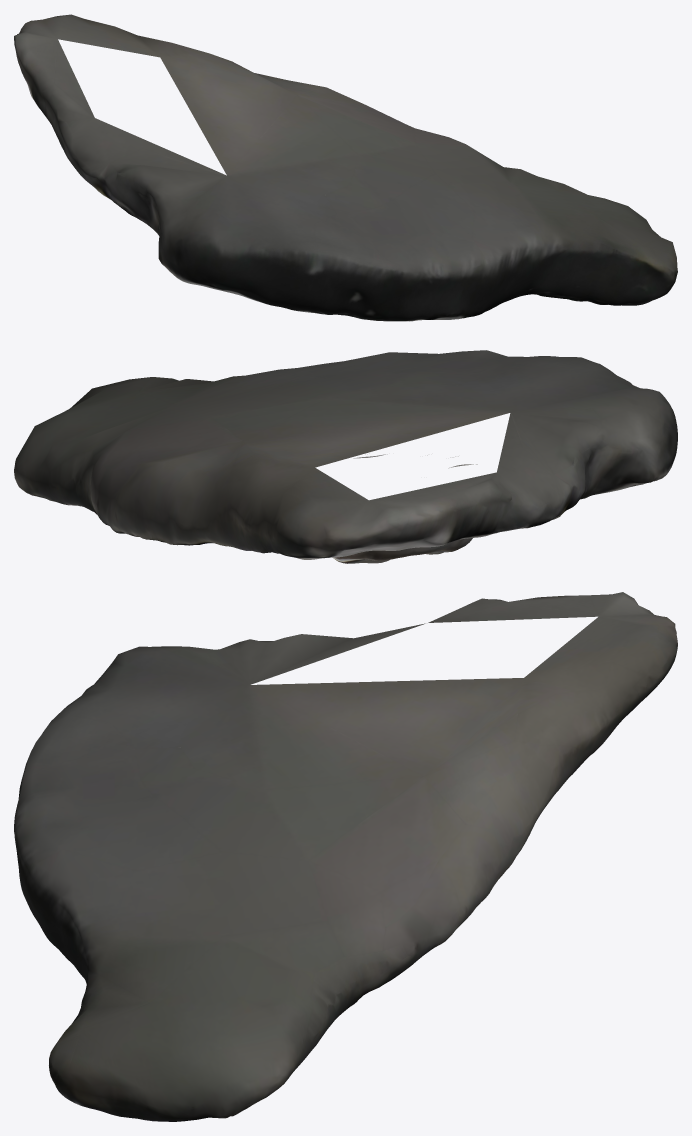
3 renders of one model, top to bottom at view 1: azimuth 30°, elevation 25°; view 2: azimuth 150°, elevation 25°; view 3: azimuth 270°, elevation 25°, orthographic. The views are drawn at different scales.
Size of the model in its own units: 0.5249 by 0.2154 by 0.4943.
Materials: 1 (1 with a texture image).
